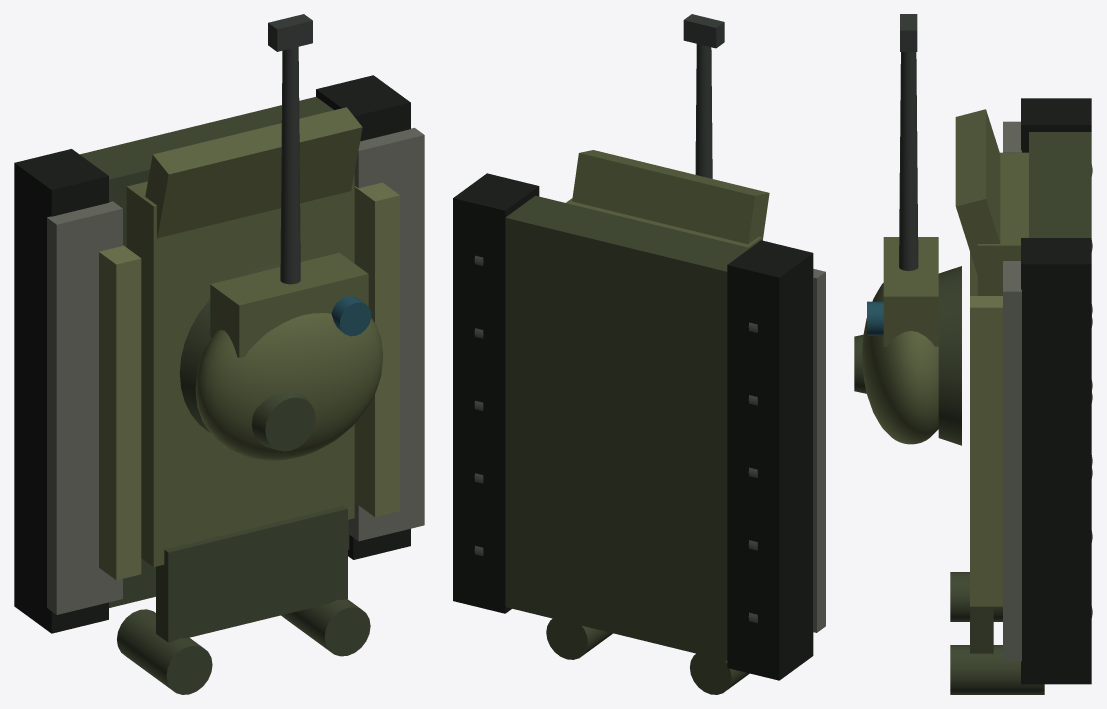
3 renders of one model, left to right at view 1: azimuth 30°, elevation 25°; view 2: azimuth 150°, elevation 25°; view 3: azimuth 270°, elevation 25°, orthographic. The views are drawn at different scales.
Visible parts, largest first — view 1: hull_upper_low_slab, left_track_guard, left_track_rubber, rear_engine_grille, rounded_cast_turret, front_glacis_low_angle, left_side_box, right_track_guard, right_side_box, turret_front_cast_cheek, hull_lower, right_track_rubber (+7 smaller); view 2: hull_lower, left_track_rubber, right_track_rubber, front_glacis_low_angle, left_track_guard, barrel_tube, right_rear_fuel_drum, left_rear_fuel_drum, muzzle_brake, hull_upper_low_slab; view 3: right_track_rubber, right_side_box, right_track_guard, rounded_cast_turret, hull_lower, front_glacis_low_angle, turret_front_cast_cheek, hull_upper_low_slab, turret_ring, barrel_tube, right_rear_fuel_drum, left_track_rubber (+6 smaller).
Boxes of the visible parts, box(x1,y1,x2,y2) form: hull_upper_low_slab: box(126, 173, 354, 567); left_track_guard: box(47, 201, 122, 614); left_track_rubber: box(14, 149, 108, 633); rear_engine_grille: box(156, 506, 347, 642); rounded_cast_turret: box(195, 313, 382, 460); front_glacis_low_angle: box(145, 107, 362, 238); left_side_box: box(99, 245, 141, 580); right_track_guard: box(348, 127, 424, 541); right_side_box: box(354, 182, 399, 516); turret_front_cast_cheek: box(210, 252, 368, 357); hull_lower: box(80, 97, 349, 607); right_track_rubber: box(316, 75, 410, 559); hull_lower: box(505, 195, 749, 660); left_track_rubber: box(727, 240, 813, 680); right_track_rubber: box(453, 173, 539, 613); front_glacis_low_angle: box(572, 150, 769, 244); left_track_guard: box(813, 269, 825, 632); barrel_tube: box(695, 44, 712, 178); right_rear_fuel_drum: box(546, 618, 612, 659); left_rear_fuel_drum: box(690, 653, 749, 694); muzzle_brake: box(683, 14, 724, 48); hull_upper_low_slab: box(566, 198, 762, 247); right_track_rubber: box(1021, 238, 1091, 684); right_side_box: box(970, 296, 1002, 606); right_track_guard: box(1003, 261, 1021, 661); rounded_cast_turret: box(862, 283, 938, 444); hull_lower: box(1029, 132, 1091, 237); front_glacis_low_angle: box(955, 109, 1000, 274); turret_front_cast_cheek: box(883, 237, 938, 346); hull_upper_low_slab: box(977, 152, 1028, 295); turret_ring: box(938, 266, 961, 445); barrel_tube: box(899, 52, 918, 270); right_rear_fuel_drum: box(950, 645, 1044, 694); left_track_rubber: box(1021, 98, 1091, 152).
Bounding box in the file's own units: 51.2 × 89.05 × 30.3.
